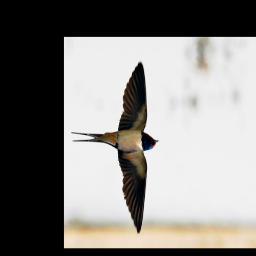Swallow: (70, 57, 159, 236)
